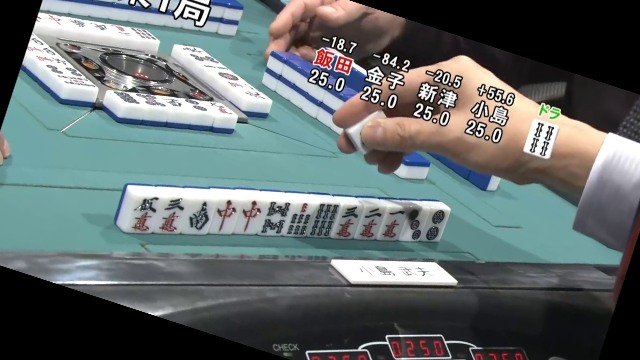Tehai: (114, 176, 452, 251)
